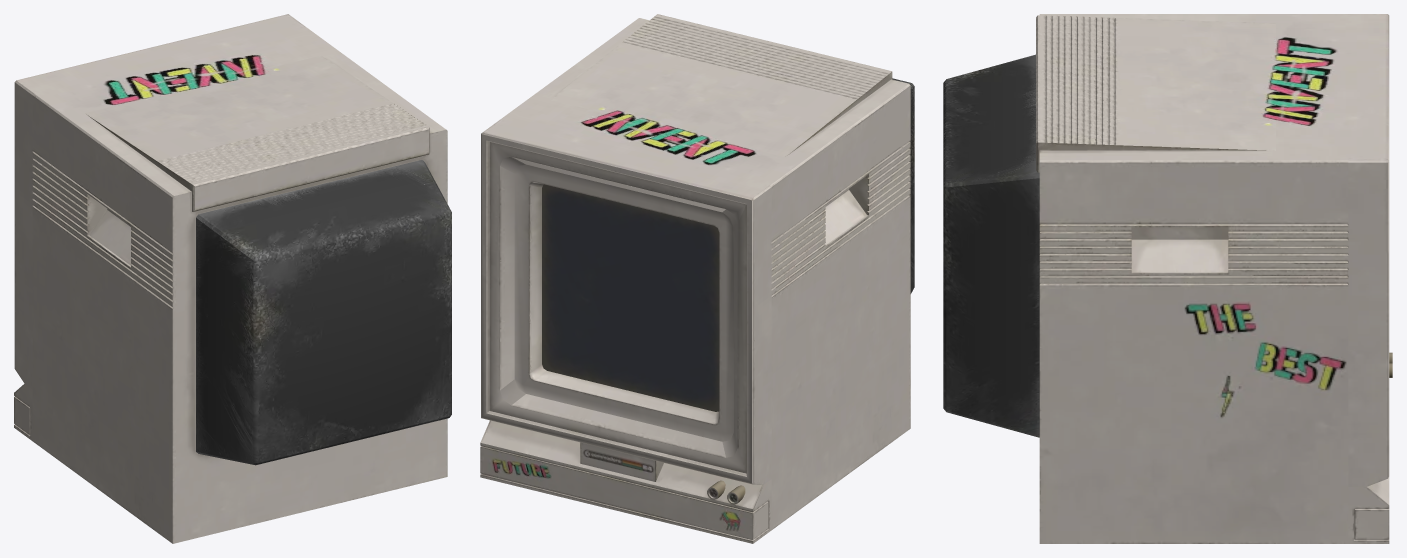
Rendered from c64_monitor-transformed.glb.
The picture shows the model from 3 angles, left to right: view 1: azimuth 30°, elevation 25°; view 2: azimuth 150°, elevation 25°; view 3: azimuth 270°, elevation 25°; orthographic projection. The views are drawn at different scales.
Visible parts, largest first — view 1: Mesh_Default_0; view 2: Mesh_Default_0; view 3: Mesh_Default_0.
Part boxes in pixels (x1,y1,x2,y2): Mesh_Default_0: (14, 14, 451, 543); Mesh_Default_0: (480, 14, 914, 543); Mesh_Default_0: (943, 14, 1392, 543).
Size of the model in its own units: 39.48 by 48.72 by 50.7.
Materials: 1 (1 with a texture image).
